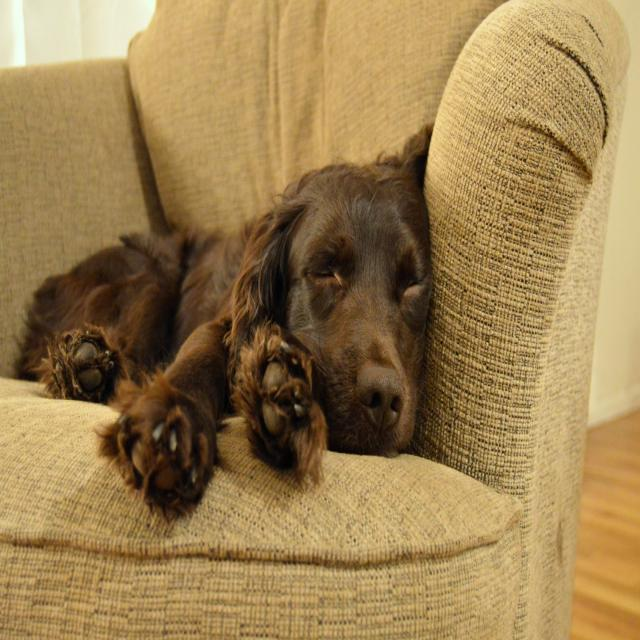dog: (229, 105, 440, 478)
